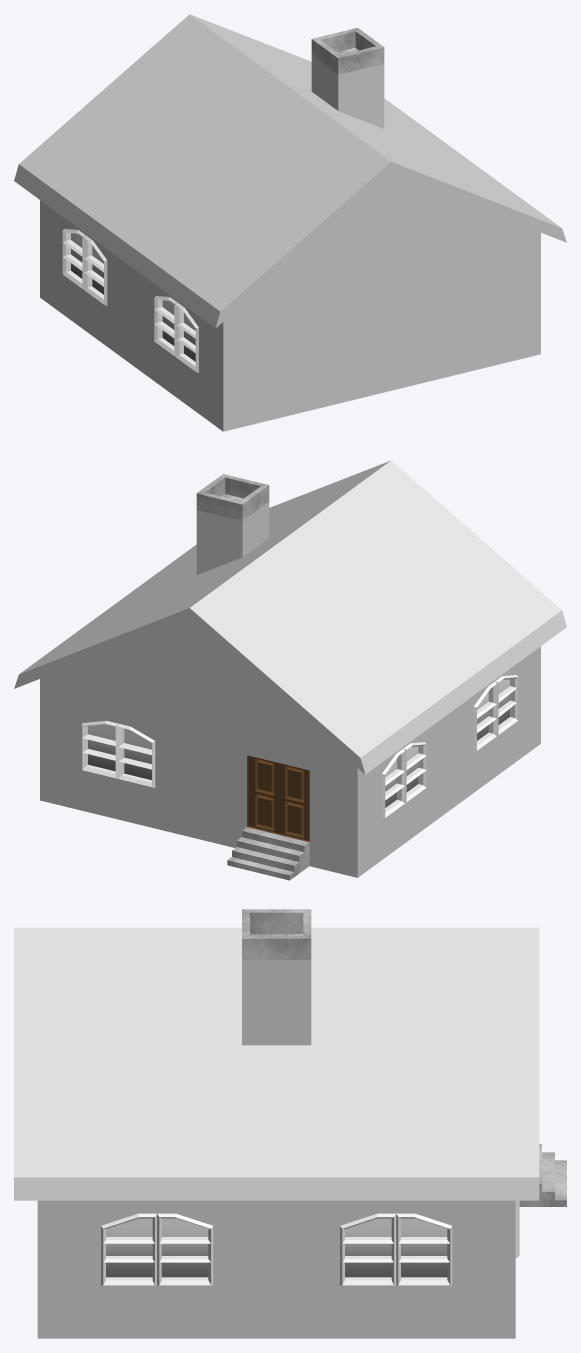
Rendered from SimpleHouse2.fbx.
3 views of the same model, one above another, from view 1: azimuth 30°, elevation 25°; view 2: azimuth 150°, elevation 25°; view 3: azimuth 270°, elevation 25° (orthographic). The views are drawn at different scales.
Visible parts, largest first — view 1: FirstFloor; view 2: FirstFloor; view 3: FirstFloor.
Part boxes in pixels (left/top/right/bottom): FirstFloor: left=14, top=14, right=566, bottom=431; FirstFloor: left=14, top=460, right=566, bottom=880; FirstFloor: left=14, top=909, right=566, bottom=1338.
Size of the model in its own units: 7.29 by 7.62 by 5.33.
Materials: 7 (3 with a texture image).
